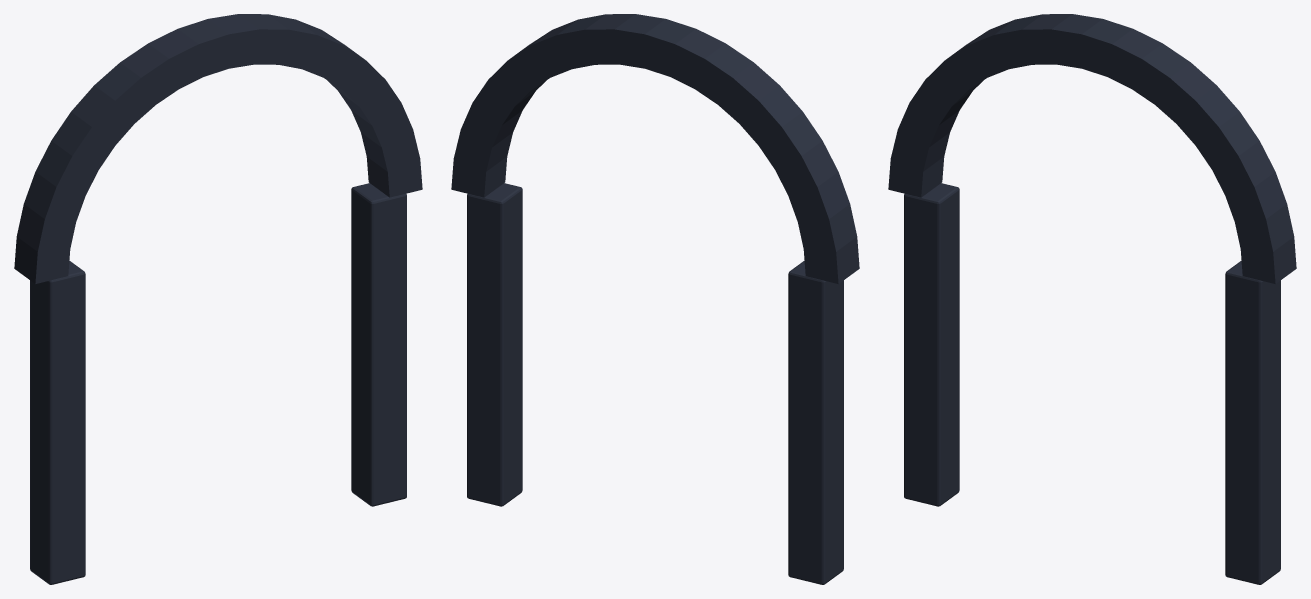
File: Gate.fbx
The picture shows the model from 3 angles, left to right: view 1: azimuth 30°, elevation 25°; view 2: azimuth 150°, elevation 25°; view 3: azimuth 330°, elevation 25°; orthographic projection.
Visible parts, largest first — view 1: GatePillar-1.001; view 2: GatePillar-1.001; view 3: GatePillar-1.001.
Boxes of the visible parts, x1,y1,x2,y2 form: GatePillar-1.001: (14, 14, 422, 584); GatePillar-1.001: (451, 14, 859, 584); GatePillar-1.001: (888, 14, 1296, 584).
Bounding box in the file's own units: 5300 × 6650 × 500.
